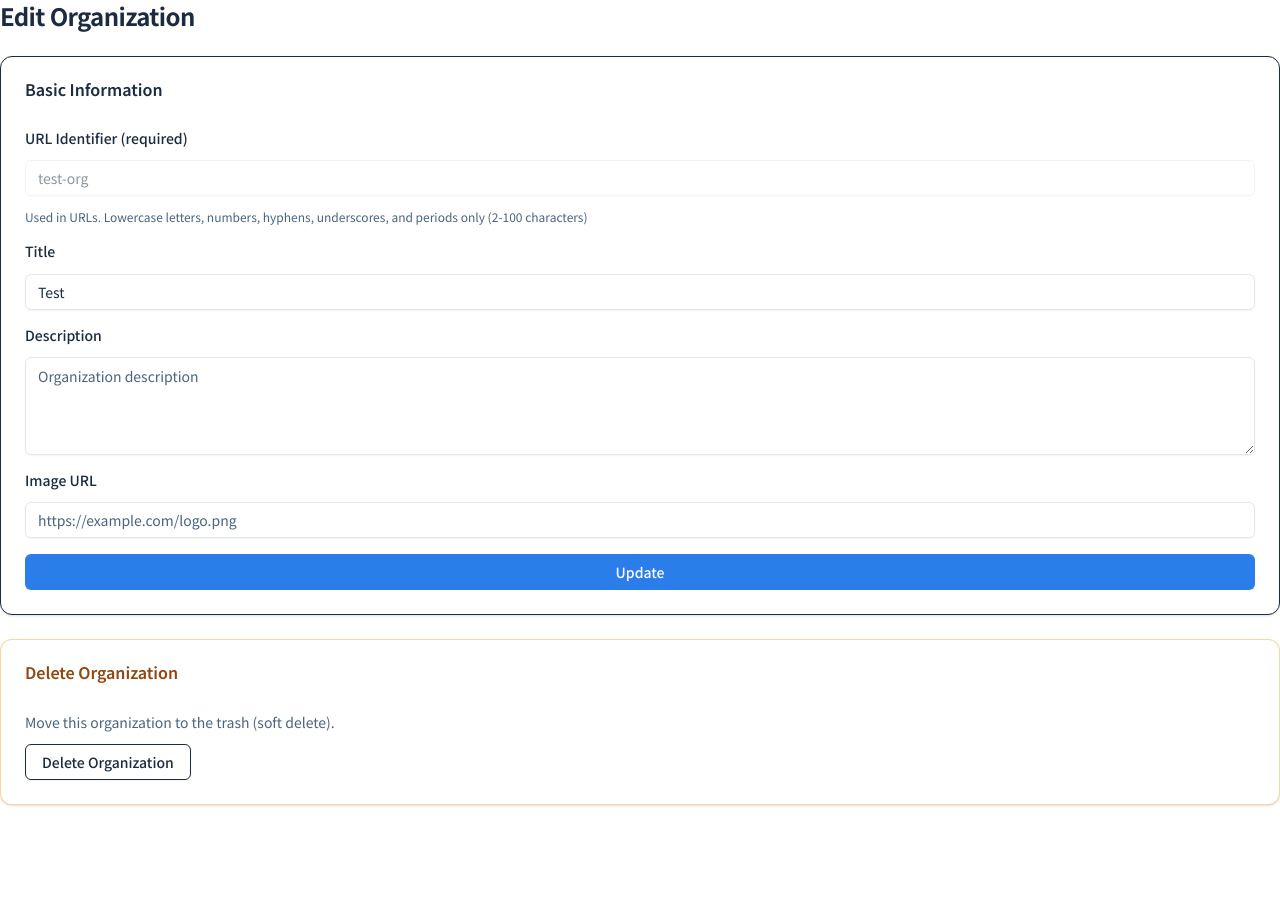
EditOrganizationPage › should close the dialog after a successful soft-delete (no purge modal)
The width and height of the screenshot is (1280, 900).
# Open the confirm dialog and confirm the soft-delete.
Click the button "Delete Organization" at (108, 762), box [25, 744, 191, 780]
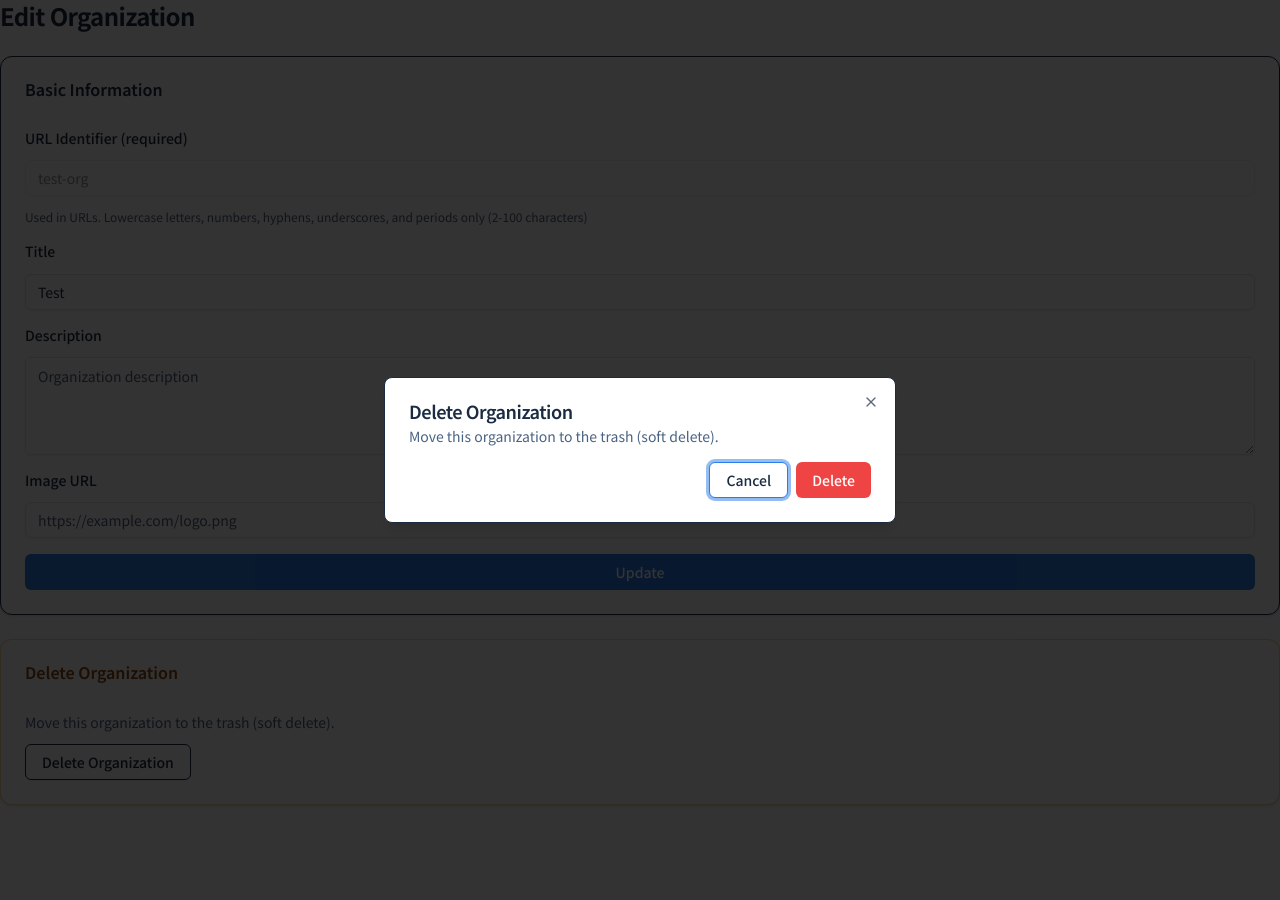
expect the dialog is shown: met, box [384, 377, 896, 523]
Click the button "Delete" at (834, 480), box [796, 462, 871, 498]
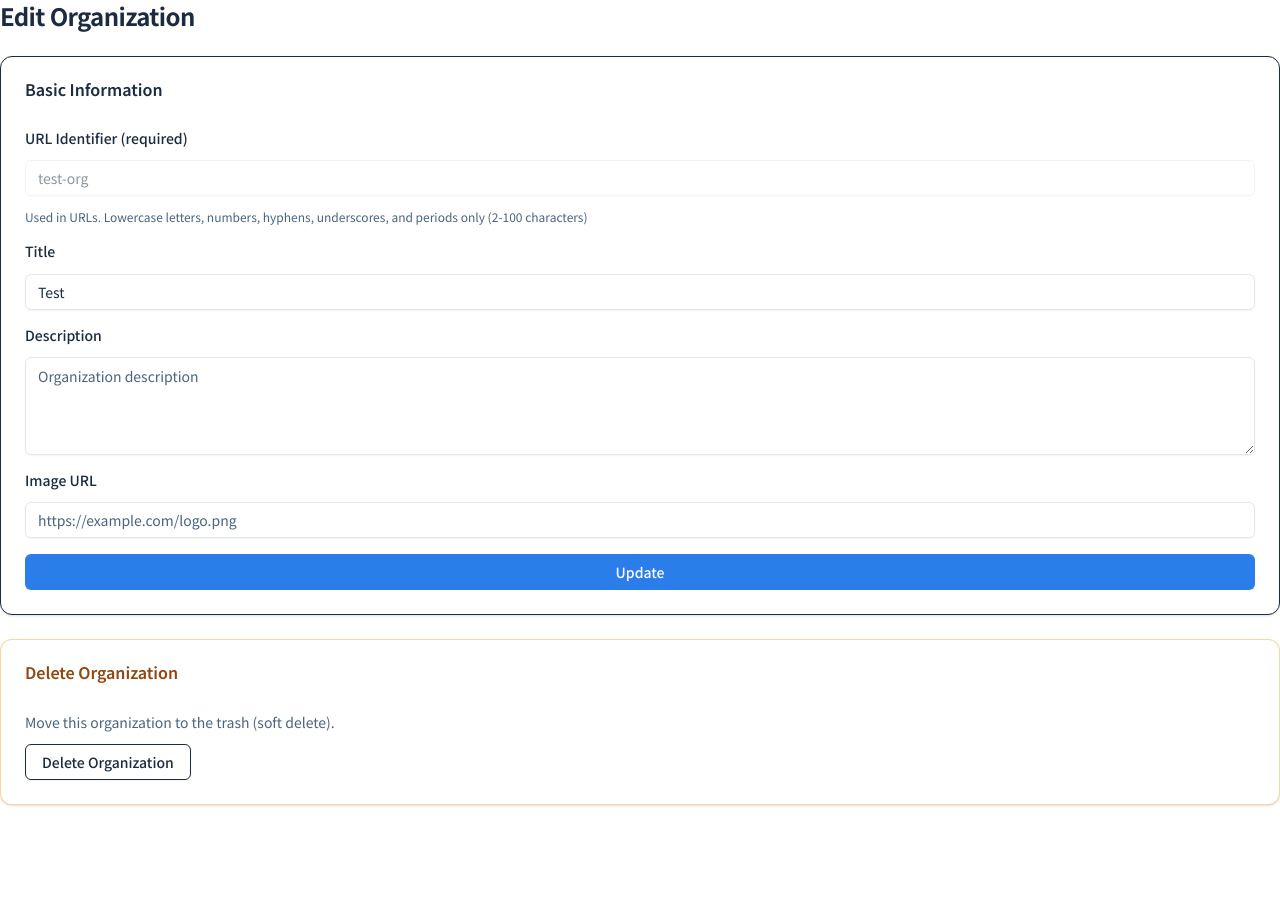
expect the dialog is gone: met
